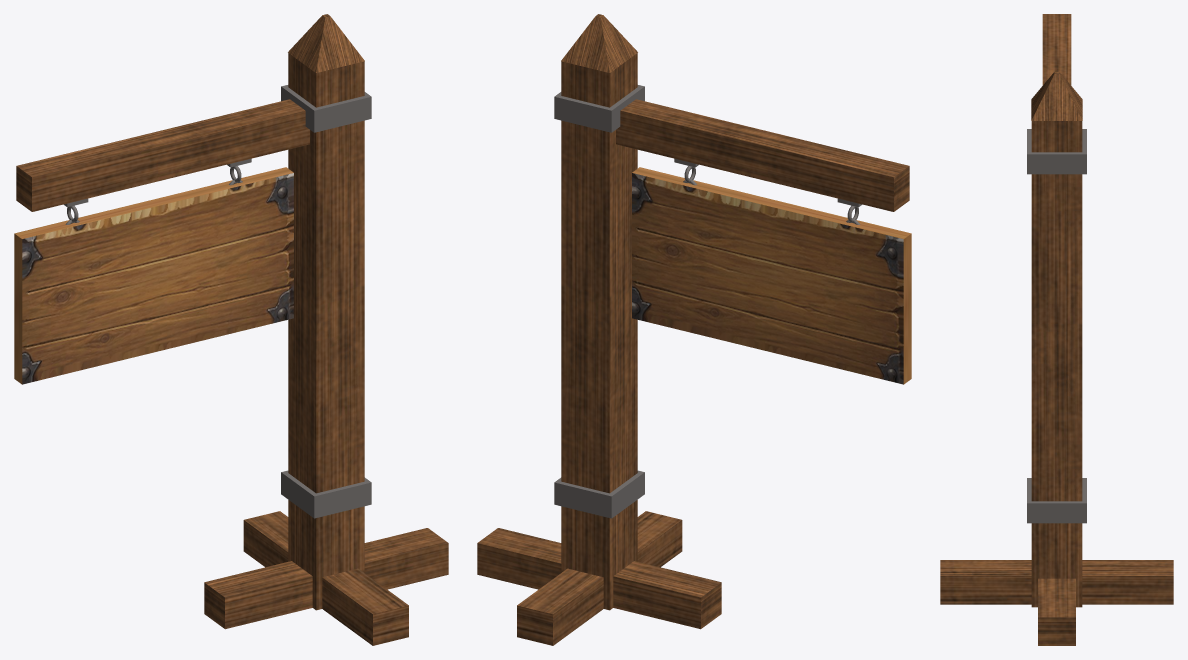
The model's file is signpost.glb.
3 views of the same model, side by side, from view 1: azimuth 30°, elevation 25°; view 2: azimuth 150°, elevation 25°; view 3: azimuth 270°, elevation 25° (orthographic). The views are drawn at different scales.
Parts seen in each view (by area): view 1: signpost; view 2: signpost; view 3: signpost.
Boxes of the visible parts, left/top/right/bottom form: signpost: left=14, top=14, right=448, bottom=645; signpost: left=477, top=14, right=911, bottom=645; signpost: left=940, top=14, right=1173, bottom=645.
Bounding box in the file's own units: 1.39 × 1.83 × 0.74.
4 materials, 3 textured.
